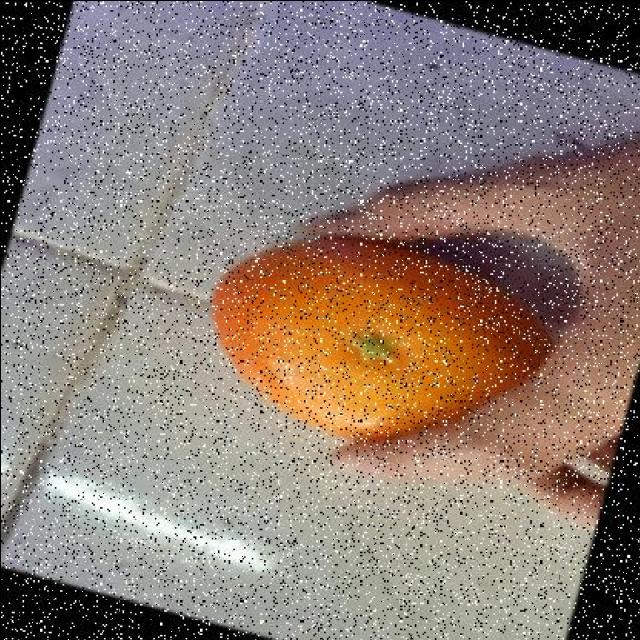Orange: (210, 236, 556, 447)
